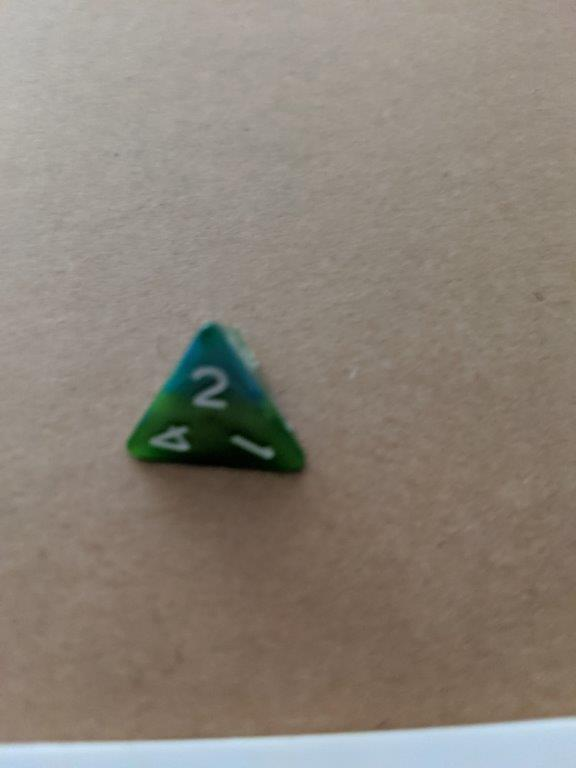d4-2: (120, 316, 314, 491)
